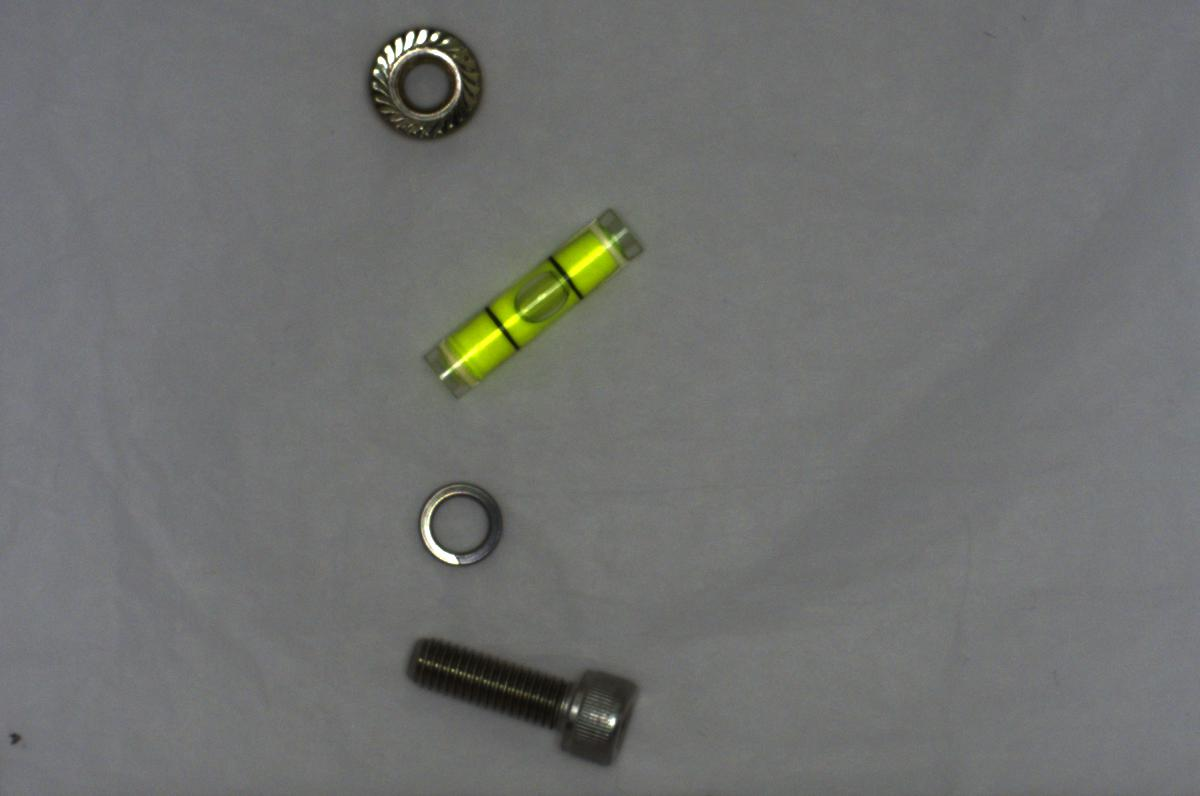Flange nut: (359, 19, 485, 147)
Hexagon screw: (400, 629, 644, 766)
Horizontal bubble: (417, 199, 635, 399)
Spring washer: (408, 474, 506, 576)
